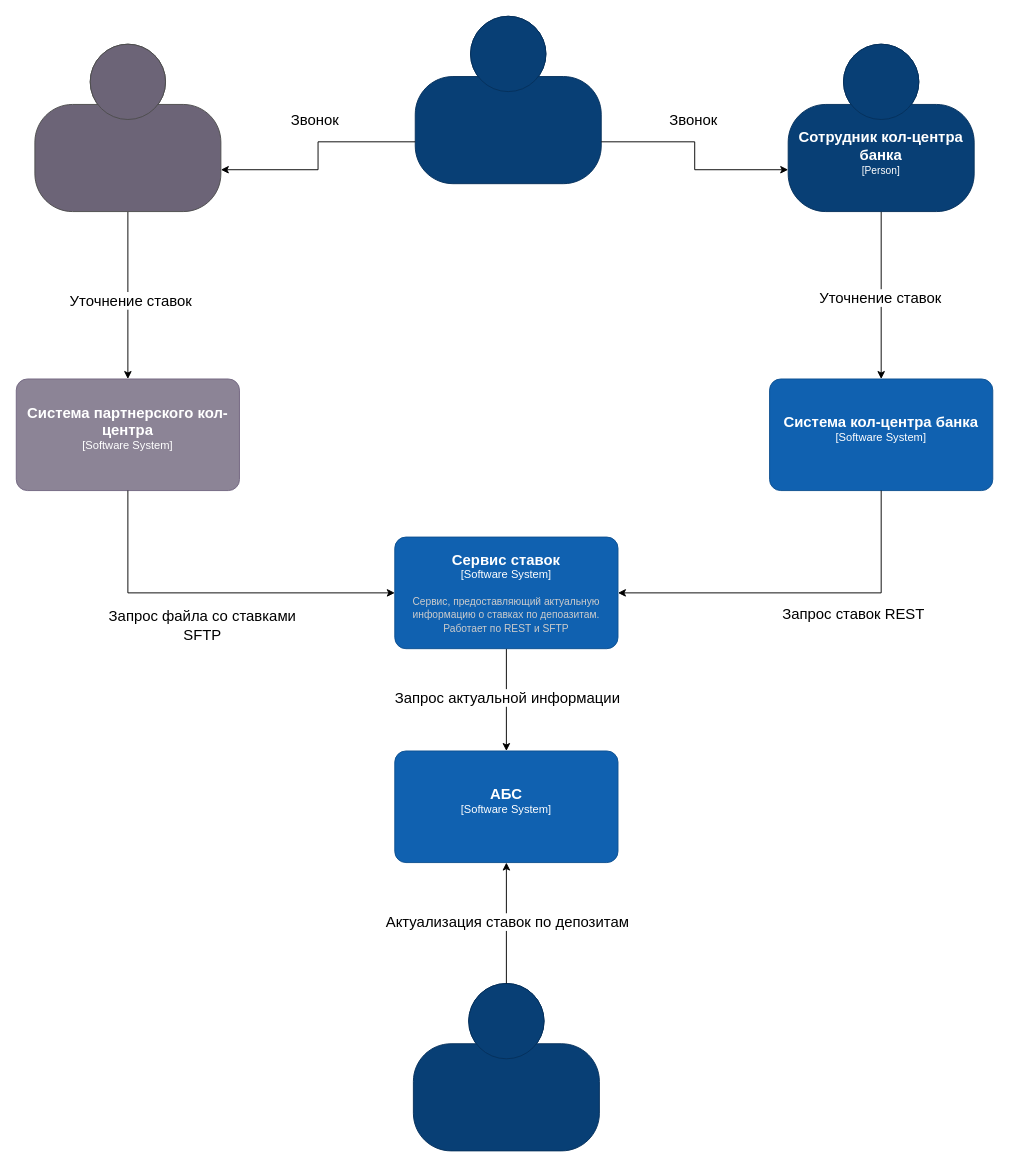
This 1009x1167 diagram has some shape labels left out. Each missing label, with the centre of its shape:
Клиент [Person]: the point at 507,99
Сотрудник бэк-офиса [Person]: the point at 505,1067
Сотрудник партнерского кол-центра [Person]: the point at 127,127
